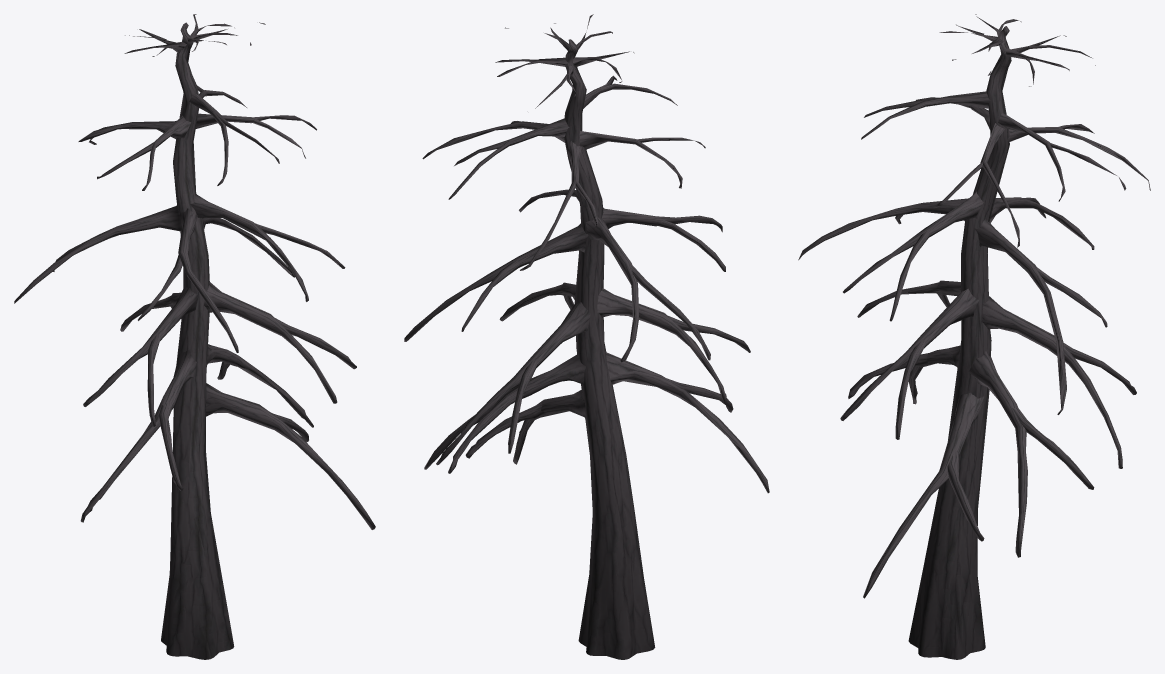
Rendered from dead3.glb.
The picture shows the model from 3 angles, left to right: view 1: azimuth 30°, elevation 25°; view 2: azimuth 150°, elevation 25°; view 3: azimuth 270°, elevation 25°; orthographic projection. The views are drawn at different scales.
Parts seen in each view (by area): view 1: DeadTree_5; view 2: DeadTree_5; view 3: DeadTree_5.
Part boxes in pixels (x1=…): DeadTree_5: x1=14, y1=14, x2=375, y2=659; DeadTree_5: x1=404, y1=14, x2=769, y2=659; DeadTree_5: x1=798, y1=14, x2=1150, y2=659.
Bounding box in the file's own units: 8.36 × 16.44 × 8.39.
1 material, 1 textured.
